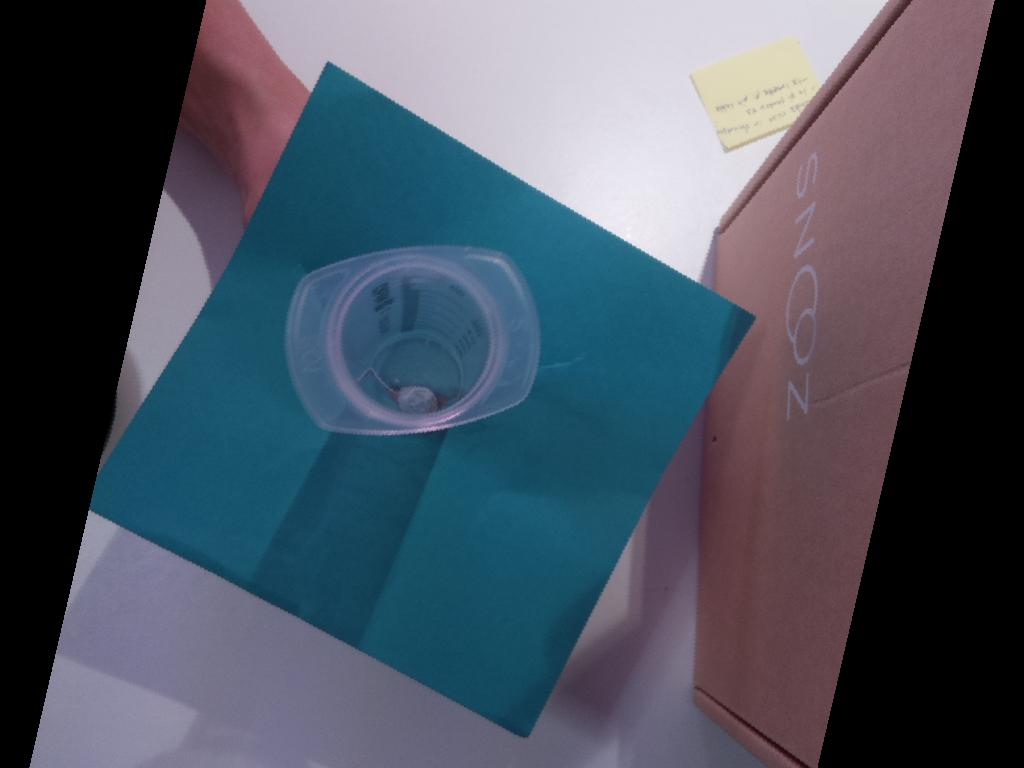clean: (285, 244, 542, 440)
